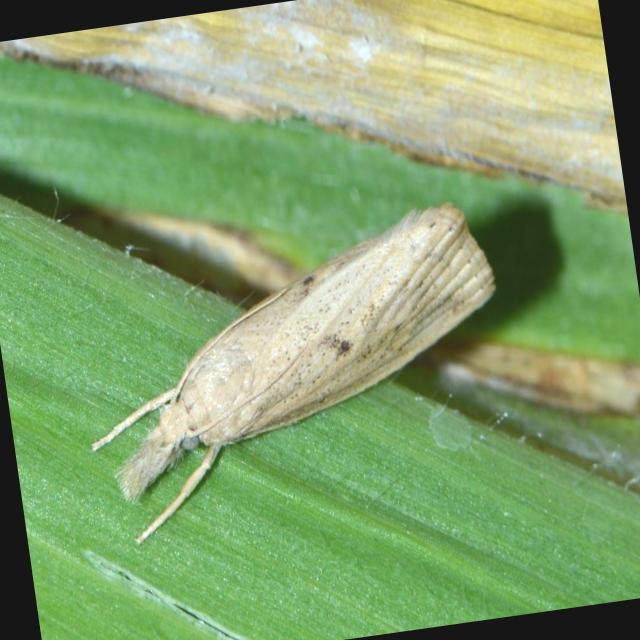stem borer: (93, 205, 494, 503)
